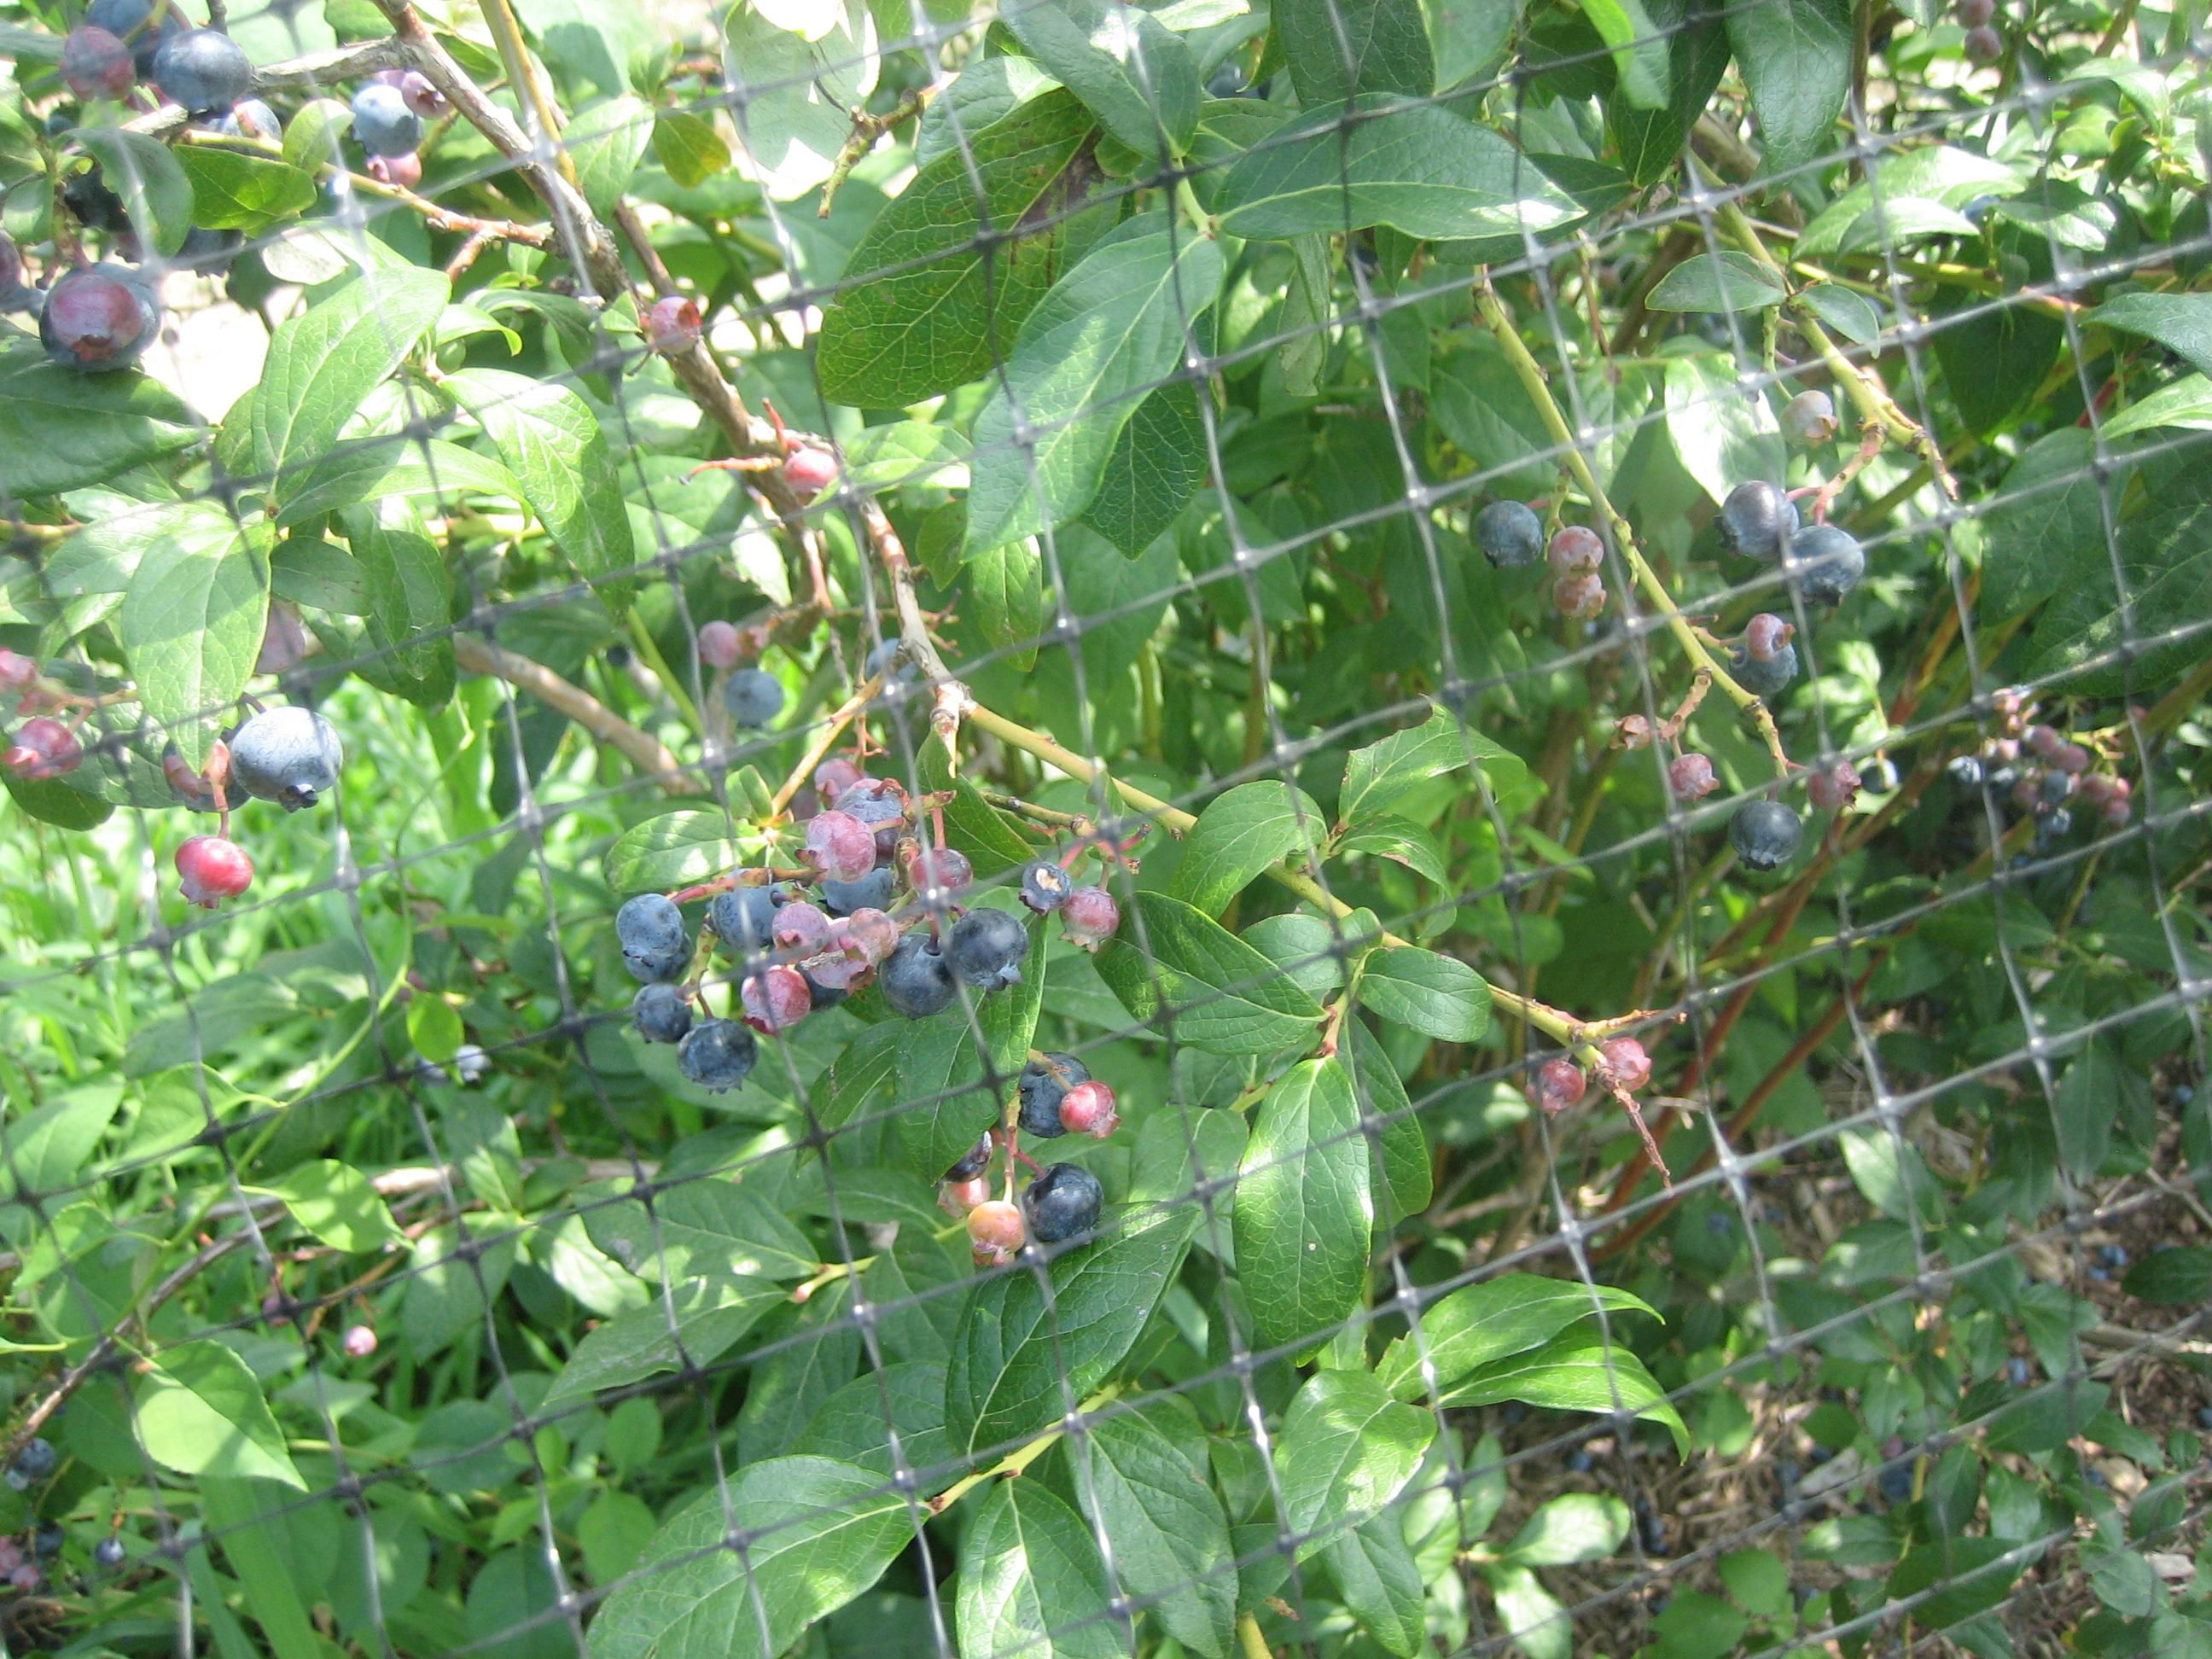Blueberry leaf: (1157, 674, 1543, 969), (948, 207, 1230, 610), (1339, 1249, 1731, 1502), (1200, 82, 1559, 312), (596, 1445, 954, 1659), (193, 239, 496, 491), (972, 1148, 1200, 1480), (421, 355, 669, 653), (1211, 985, 1385, 1405), (89, 497, 277, 805), (1069, 870, 1320, 1098), (1064, 1394, 1280, 1659), (491, 1267, 824, 1419), (1275, 1342, 1420, 1596)
